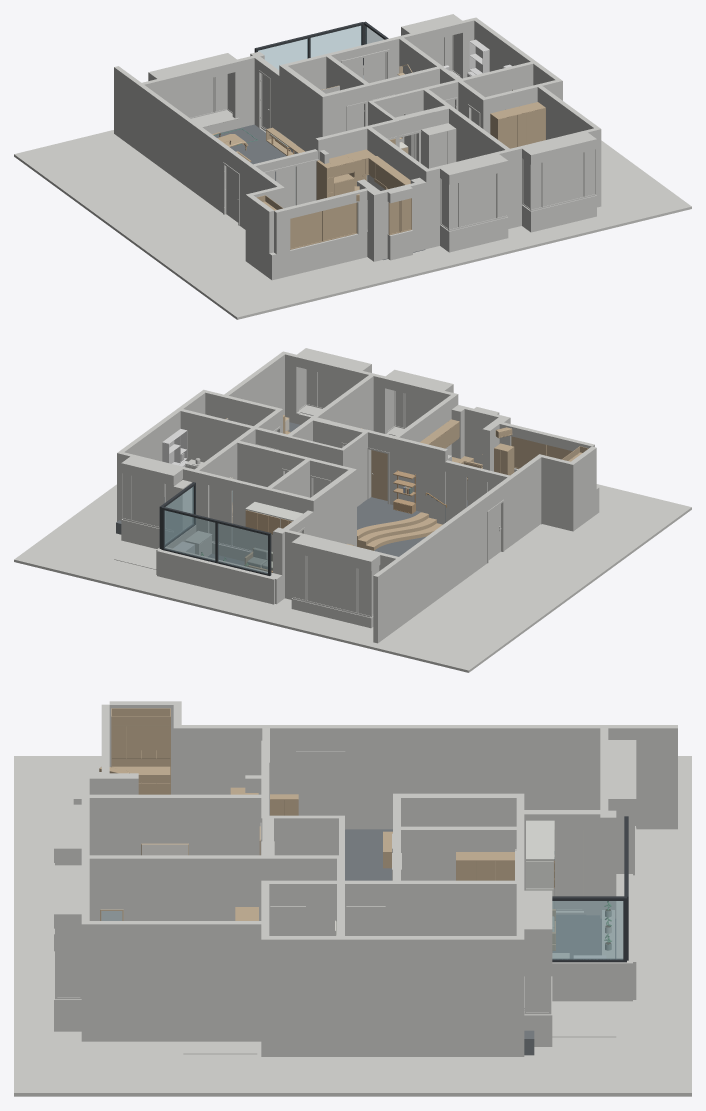
The model's file is interaction_proxy.glb.
The picture shows the model from 3 angles, top to bottom: view 1: azimuth 30°, elevation 25°; view 2: azimuth 150°, elevation 25°; view 3: azimuth 270°, elevation 25°; orthographic projection. The views are drawn at different scales.
Visible parts, largest first — view 1: SITE_GROUND.001, VIEW_WALL_W_wall_md_0006.001, VIEW_WALL_LIVING_FIX_GUEST_BATH_FULL_WALL.001, VIEW_WALL_W_wall_md_0042.001, VIEW_WALL_W_wall_md_0035.001, V4_W-MB-S_FRONT_GLASS_1.001, VIEW_WALL_W_wall_md_0034.001, V4_W-SMB-S_FRONT_GLASS_1.001, VIEW_WALL_W_wall_md_0007.001, VIEW_WALL_W_wall_md_0021.001, VIEW_WALL_W_wall_md_0030.001, VIEW_WALL_W_wall_md_0060.001 (+46 smaller); view 2: SITE_GROUND.001, VIEW_WALL_W_wall_md_0006.001, VIEW_WALL_W_wall_md_0062.001, VIEW_WALL_W_wall_md_0005.001, VIEW_WALL_W_wall_md_0044.001, VIEW_WALL_W_wall_md_0043.001, VIEW_WALL_LIVING_FIX_GUEST_BATH_FULL_WALL.001, LIVING_FIX_BAY_FRONT_GLASS_1.001, VIEW_WALL_W_wall_md_0049.001, VIEW_WALL_W_wall_md_0055.001, NORTH_BALCONY_GLASS_NORTH_B.001, VIEW_WALL_W_wall_md_0007.001 (+55 smaller); view 3: SITE_GROUND.001, VIEW_WALL_W_wall_md_0030.001, VIEW_WALL_W_wall_md_0033.001, VIEW_WALL_W_wall_md_0006.001, VIEW_WALL_W_wall_md_0021.001, VIEW_WALL_W_wall_md_0015.001, VIEW_WALL_W_wall_md_0032.001, VIEW_WALL_W_wall_md_0005.001, VIEW_WALL_W_wall_md_0025.001, VIEW_WALL_W_wall_md_0007.001, VIEW_WALL_W_wall_md_0019.001, NORTH_BALCONY_GLASS_EAST.001 (+38 smaller).
Part boxes in pixels (x1=…): SITE_GROUND.001: x1=14, y1=128, x2=691, y2=319; VIEW_WALL_W_wall_md_0006.001: x1=139, y1=85, x2=227, y2=212; VIEW_WALL_LIVING_FIX_GUEST_BATH_FULL_WALL.001: x1=282, y1=66, x2=325, y2=153; VIEW_WALL_W_wall_md_0042.001: x1=276, y1=232, x2=367, y2=278; VIEW_WALL_W_wall_md_0035.001: x1=533, y1=139, x2=594, y2=231; V4_W-MB-S_FRONT_GLASS_1.001: x1=543, y1=152, x2=583, y2=206; VIEW_WALL_W_wall_md_0034.001: x1=451, y1=161, x2=505, y2=251; V4_W-SMB-S_FRONT_GLASS_1.001: x1=460, y1=174, x2=496, y2=226; VIEW_WALL_W_wall_md_0007.001: x1=114, y1=66, x2=141, y2=150; VIEW_WALL_W_wall_md_0021.001: x1=449, y1=107, x2=509, y2=161; VIEW_WALL_W_wall_md_0030.001: x1=537, y1=86, x2=598, y2=139; VIEW_WALL_W_wall_md_0060.001: x1=232, y1=55, x2=254, y2=128; SITE_GROUND.001: x1=14, y1=484, x2=691, y2=672; VIEW_WALL_W_wall_md_0006.001: x1=399, y1=495, x2=487, y2=624; VIEW_WALL_W_wall_md_0062.001: x1=157, y1=547, x2=277, y2=604; VIEW_WALL_W_wall_md_0005.001: x1=499, y1=456, x2=541, y2=550; VIEW_WALL_W_wall_md_0044.001: x1=396, y1=437, x2=441, y2=523; VIEW_WALL_W_wall_md_0043.001: x1=541, y1=455, x2=575, y2=531; VIEW_WALL_LIVING_FIX_GUEST_BATH_FULL_WALL.001: x1=311, y1=470, x2=354, y2=545; LIVING_FIX_BAY_FRONT_GLASS_1.001: x1=307, y1=556, x2=356, y2=612; VIEW_WALL_W_wall_md_0049.001: x1=180, y1=409, x2=253, y2=462; VIEW_WALL_W_wall_md_0055.001: x1=196, y1=470, x2=266, y2=561; NORTH_BALCONY_GLASS_NORTH_B.001: x1=164, y1=510, x2=215, y2=560; VIEW_WALL_W_wall_md_0007.001: x1=373, y1=559, x2=400, y2=643; SITE_GROUND.001: x1=14, y1=756, x2=691, y2=1096; VIEW_WALL_W_wall_md_0030.001: x1=89, y1=921, x2=261, y2=1041; VIEW_WALL_W_wall_md_0033.001: x1=345, y1=936, x2=516, y2=1056; VIEW_WALL_W_wall_md_0006.001: x1=345, y1=725, x2=600, y2=829; VIEW_WALL_W_wall_md_0021.001: x1=89, y1=855, x2=261, y2=920; VIEW_WALL_W_wall_md_0015.001: x1=89, y1=794, x2=261, y2=855; VIEW_WALL_W_wall_md_0032.001: x1=261, y1=936, x2=336, y2=1056; VIEW_WALL_W_wall_md_0005.001: x1=181, y1=725, x2=296, y2=794; VIEW_WALL_W_wall_md_0025.001: x1=401, y1=880, x2=516, y2=935; VIEW_WALL_W_wall_md_0007.001: x1=608, y1=725, x2=677, y2=829; VIEW_WALL_W_wall_md_0019.001: x1=401, y1=826, x2=516, y2=880; NORTH_BALCONY_GLASS_EAST.001: x1=552, y1=901, x2=623, y2=959.
Size of the model in its own units: 20 by 3.37 by 17.
